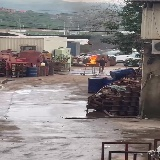fire: (86, 56, 97, 64)
